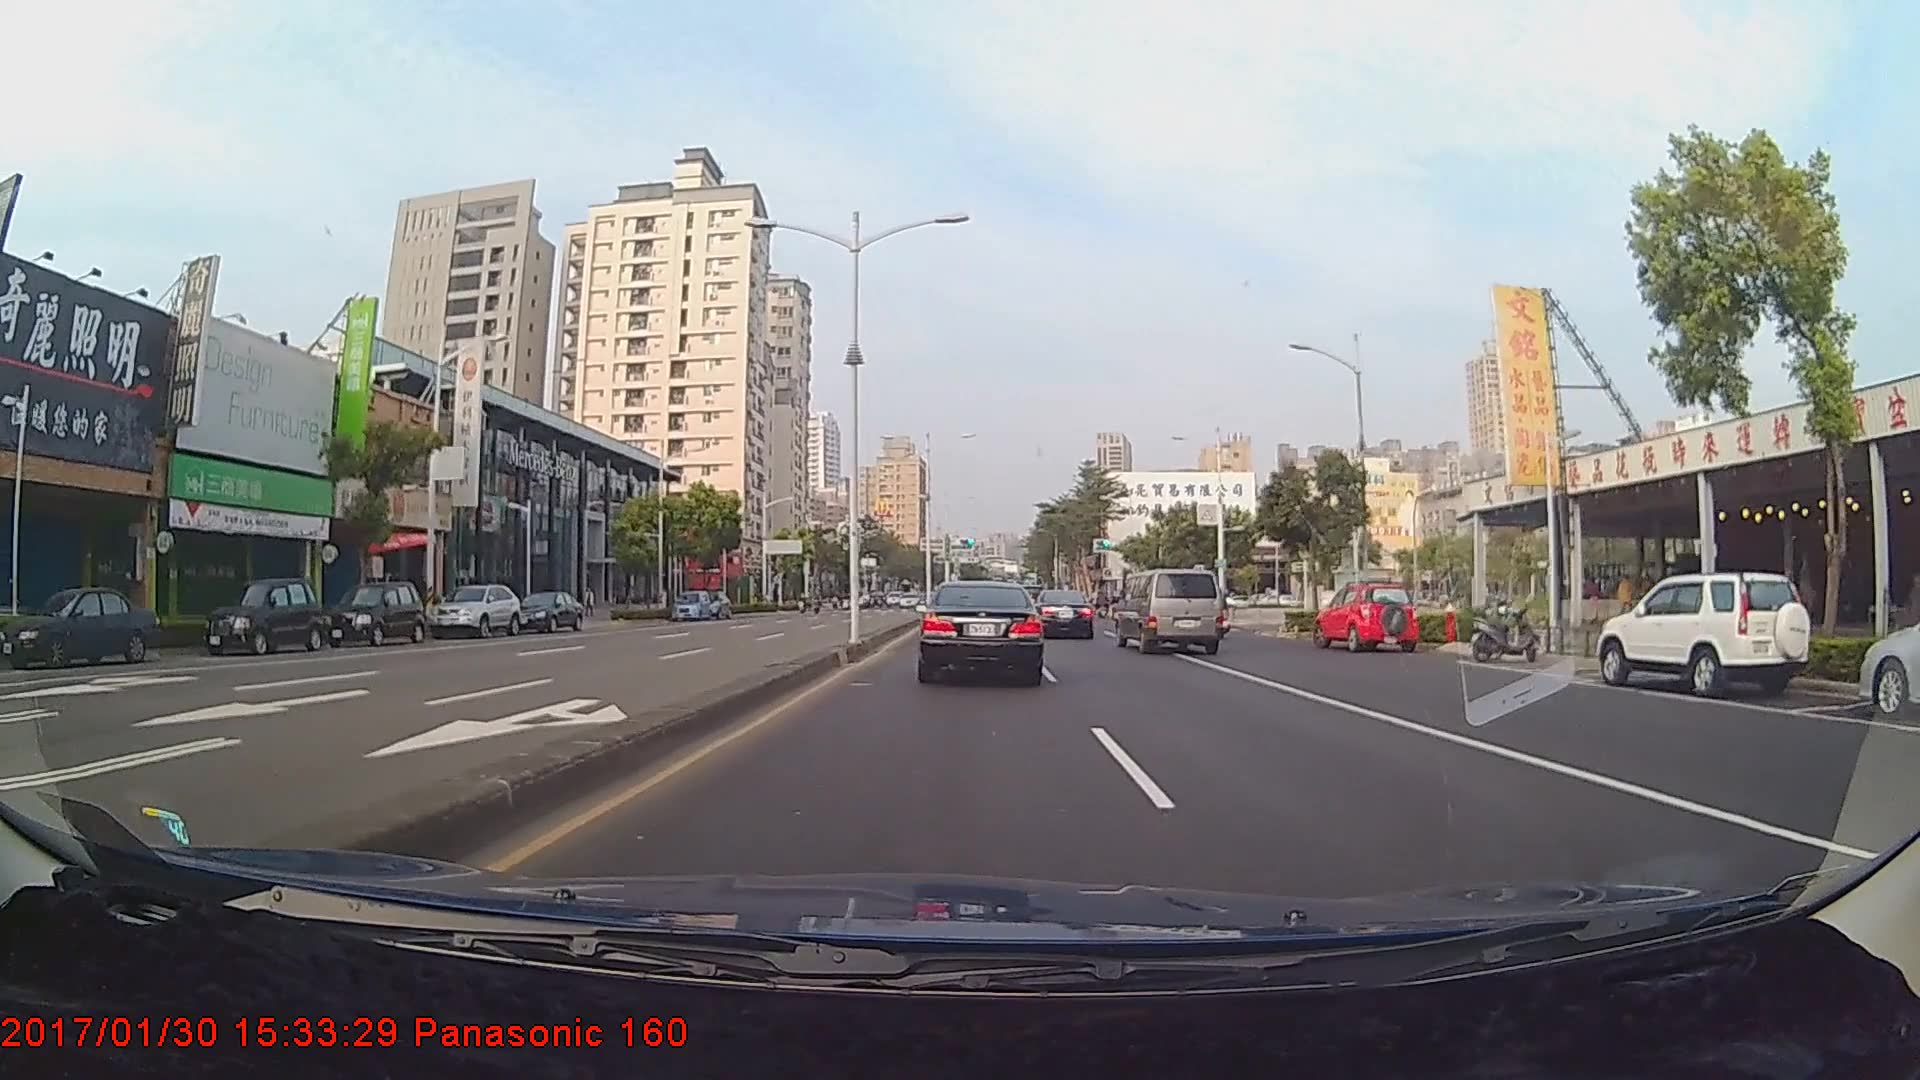vehicle: (1600, 568, 1807, 696), (0, 584, 164, 667), (916, 578, 1044, 683), (200, 575, 323, 654), (1112, 568, 1222, 654), (1855, 575, 1920, 721), (1315, 580, 1418, 655), (319, 580, 425, 646), (429, 584, 524, 640), (513, 587, 583, 632), (1033, 589, 1095, 640), (669, 588, 712, 618)
